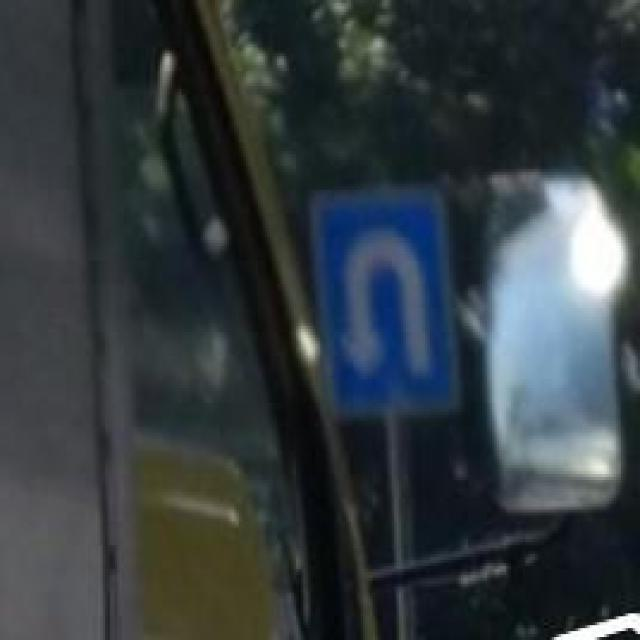U-turn: (315, 198, 449, 411)
